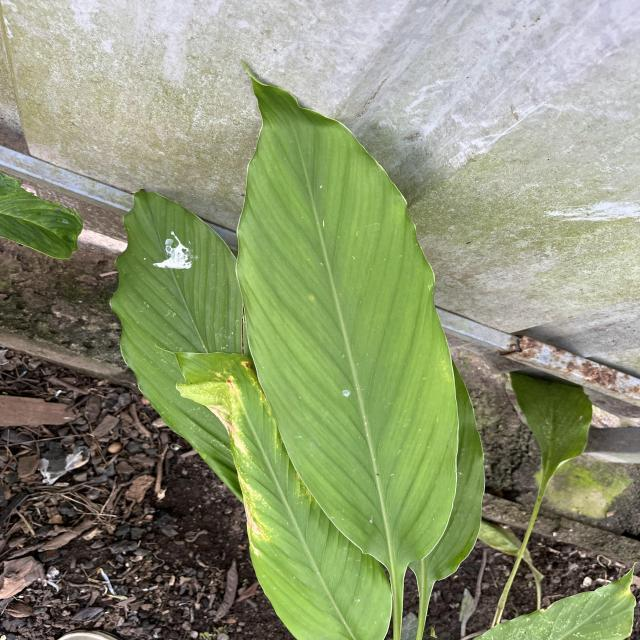Curcuma longa: (231, 43, 467, 580)
